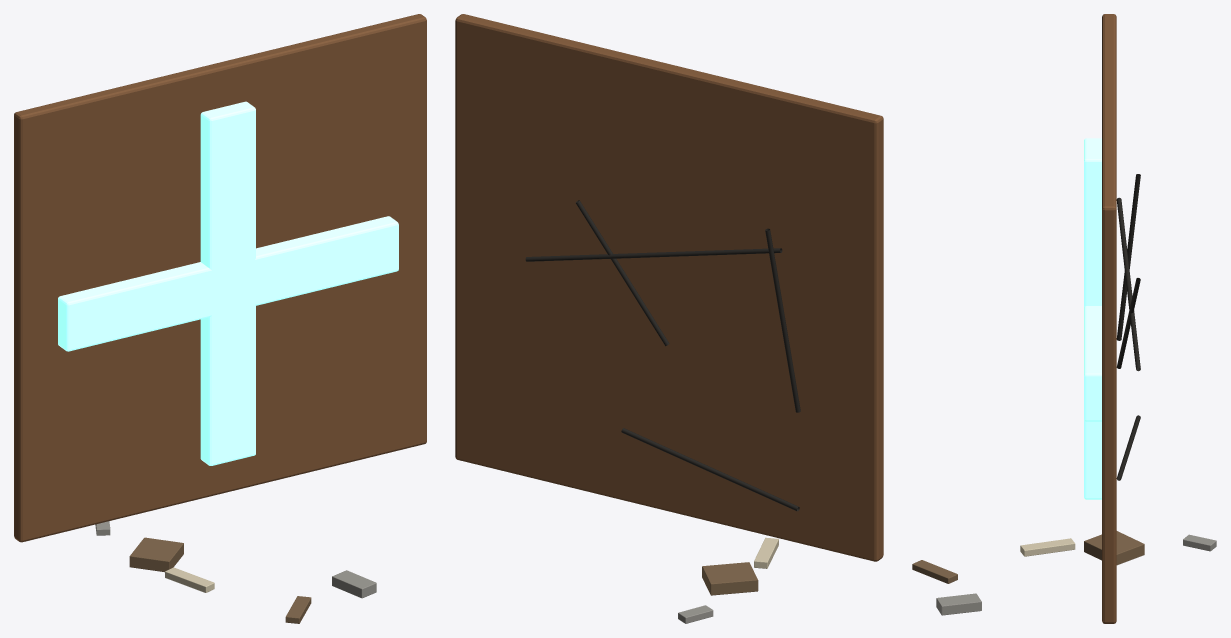
The model's file is dz_urban_pharmacy_neon_cross_premium.glb.
3 views of the same model, side by side, from view 1: azimuth 30°, elevation 25°; view 2: azimuth 150°, elevation 25°; view 3: azimuth 270°, elevation 25° (orthographic). The views are drawn at different scales.
Visible parts, largest first — view 1: pharmacy_backplate_rust, pharmacy_neon_cross_h, pharmacy_neon_cross_v, pharmacy_debris_02, pharmacy_debris_03, pharmacy_debris_04; view 2: pharmacy_backplate_rust, pharmacy_debris_02, pharmacy_loose_wire_1, pharmacy_loose_wire_0, pharmacy_loose_wire_3, pharmacy_loose_wire_2; view 3: pharmacy_backplate_rust, pharmacy_neon_cross_v, pharmacy_neon_cross_h, pharmacy_debris_02, pharmacy_loose_wire_1, pharmacy_loose_wire_3, pharmacy_debris_03, pharmacy_debris_04, pharmacy_debris_01, pharmacy_loose_wire_2.
Boxes of the visible parts, x1,y1,x2,y2 form: pharmacy_backplate_rust: (14,14,426,542); pharmacy_neon_cross_h: (58,216,398,351); pharmacy_neon_cross_v: (200,101,255,465); pharmacy_debris_02: (129,537,183,572); pharmacy_debris_03: (332,570,376,598); pharmacy_debris_04: (165,567,214,592); pharmacy_backplate_rust: (455,14,883,561); pharmacy_debris_02: (702,562,758,595); pharmacy_loose_wire_1: (525,248,782,261); pharmacy_loose_wire_0: (621,428,799,511); pharmacy_loose_wire_3: (765,228,800,412); pharmacy_loose_wire_2: (575,200,669,346); pharmacy_backplate_rust: (1102,14,1116,623); pharmacy_neon_cross_v: (1084,138,1101,499); pharmacy_neon_cross_h: (1084,306,1101,421); pharmacy_debris_02: (1084,531,1144,565); pharmacy_loose_wire_1: (1116,197,1140,371); pharmacy_loose_wire_3: (1116,174,1140,340); pharmacy_debris_03: (936,593,981,615); pharmacy_debris_04: (1020,538,1075,556); pharmacy_debris_01: (912,560,957,583); pharmacy_loose_wire_2: (1116,278,1140,368).
Size of the model in its own units: 1.9 by 2.15 by 1.25.
